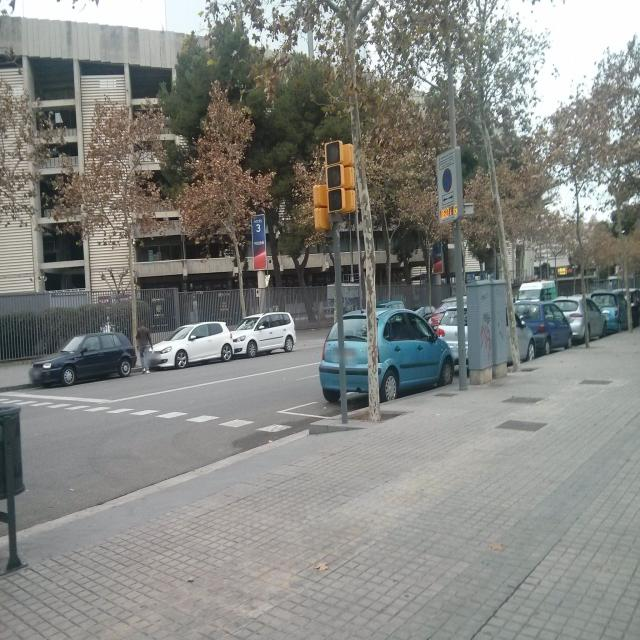forb_stopping: (442, 169, 451, 191)
